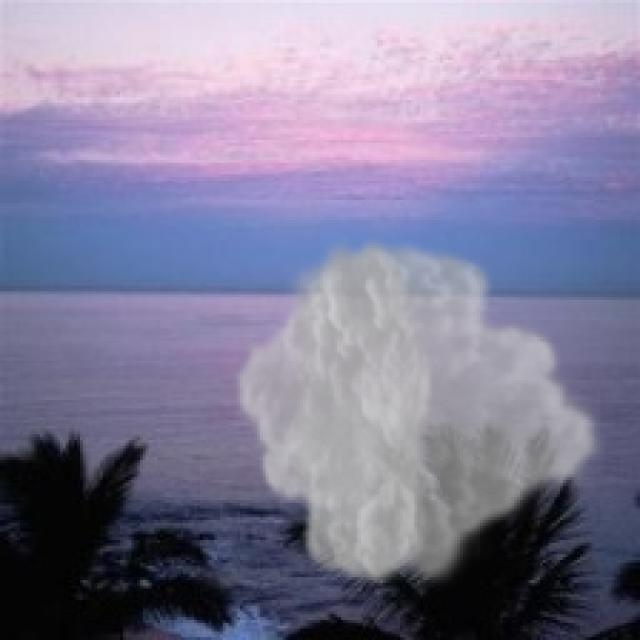Smoke: (231, 232, 606, 594)
